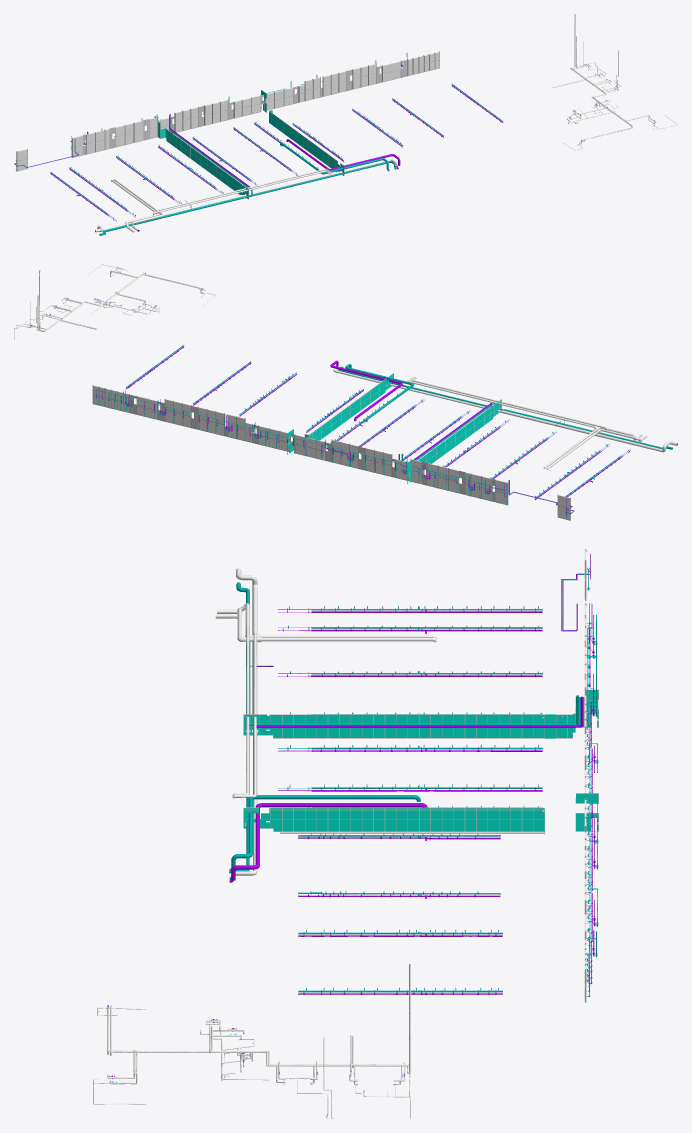
Rendered from detail-pipes-lite-2-1f.glb.
3 views of the same model, one above another, from view 1: azimuth 30°, elevation 25°; view 2: azimuth 150°, elevation 25°; view 3: azimuth 270°, elevation 25° (orthographic). The views are drawn at different scales.
Size of the model in its own units: 133 by 15.74 by 53.17.
